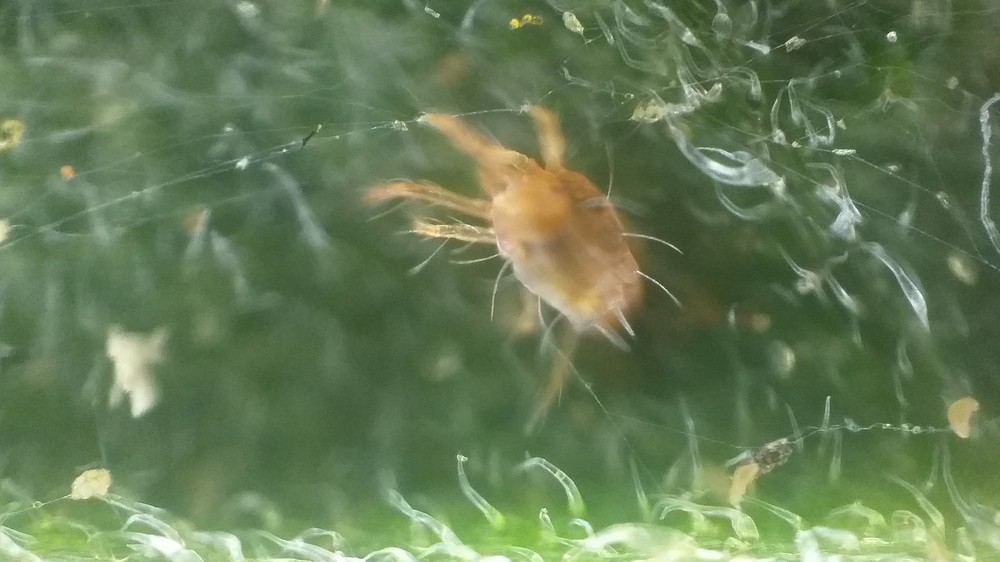Aracnido Rojo: (356, 99, 708, 431)
